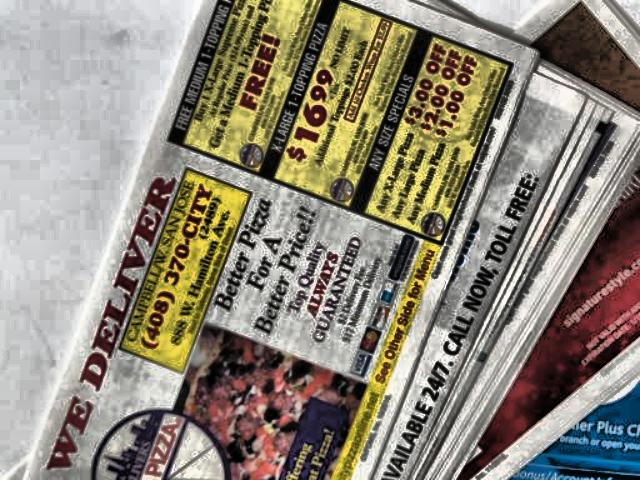Paper: (23, 0, 640, 480)
